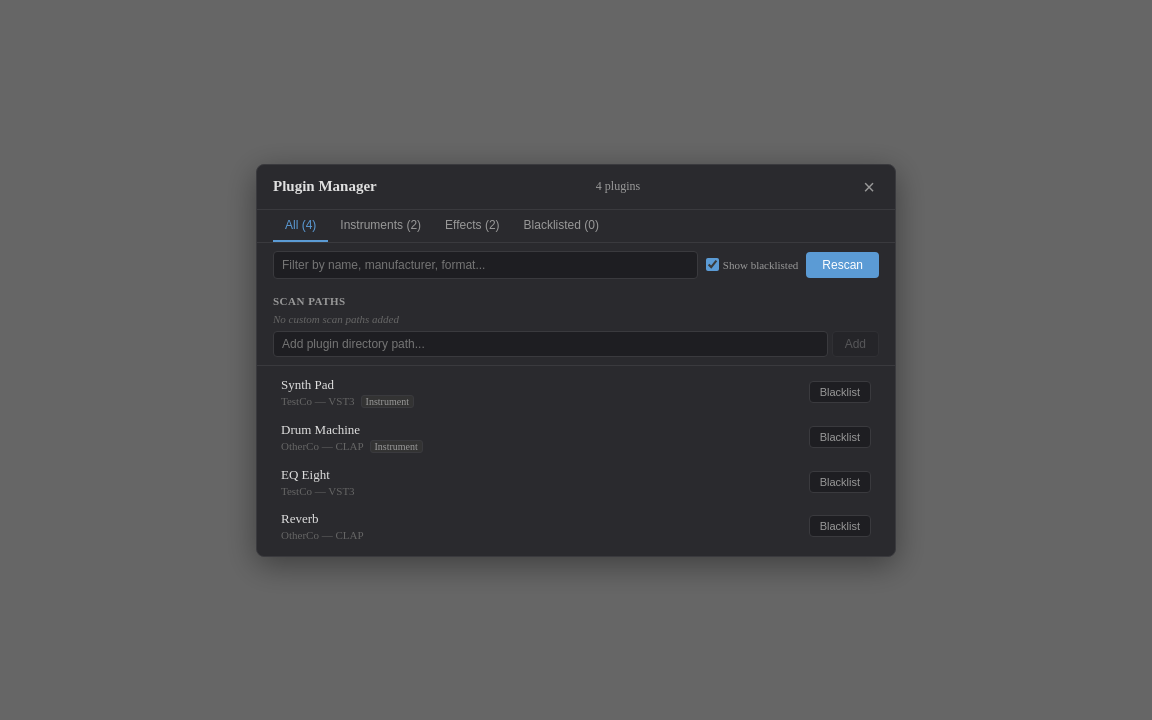
it: PluginManagerDialog › search and filter › Effects tab shows only effects
The image size is (1152, 720).
Expected: the text "Synth Pad" is shown, left=281, top=376, right=334, bottom=392
Click the button "Effects (2)": click(472, 226) left=433, top=210, right=512, bottom=242
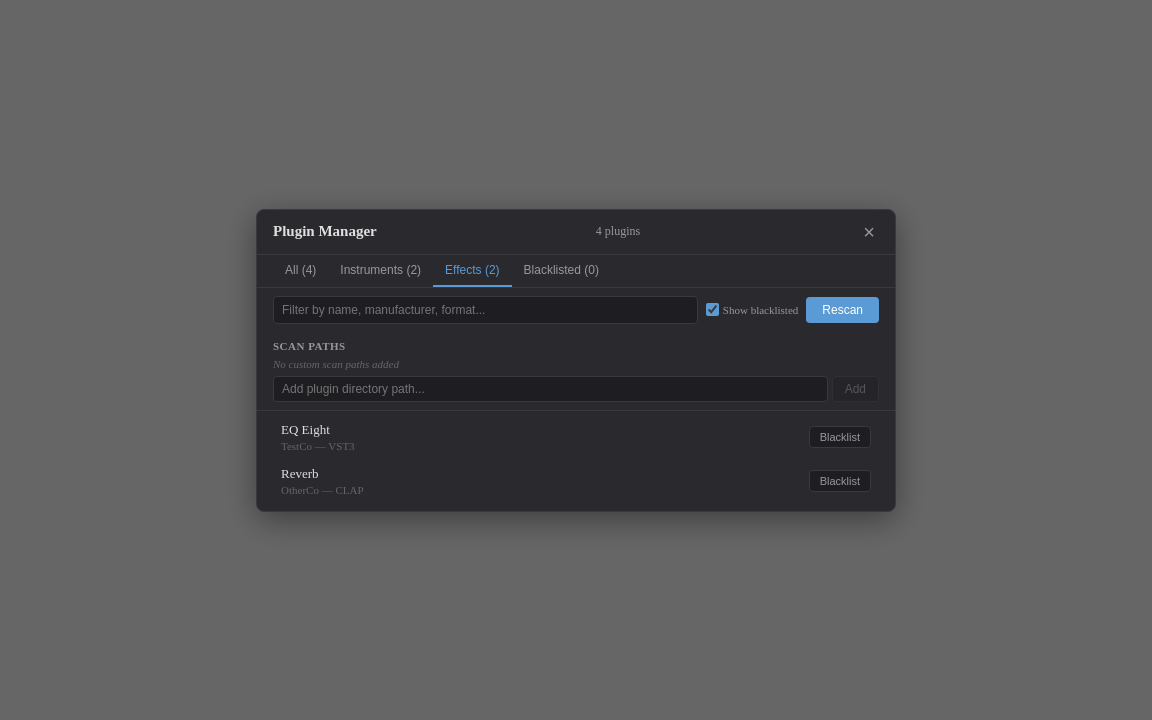
Expected: the text "EQ Eight" is shown, left=281, top=422, right=330, bottom=436
Result: the text "Synth Pad" is gone
Result: the text "Drum Machine" is gone
